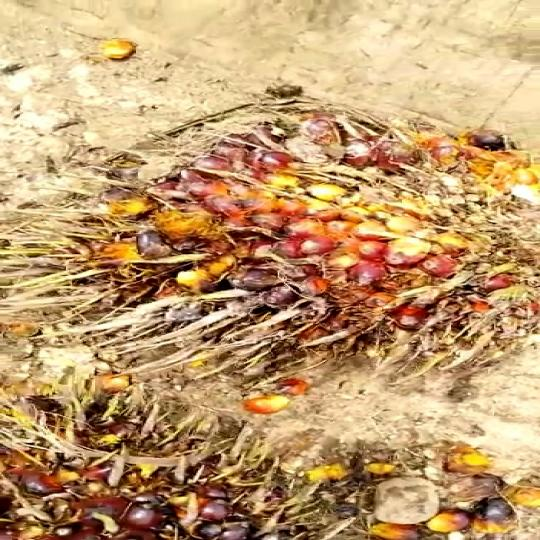masak: (41, 107, 540, 397)
